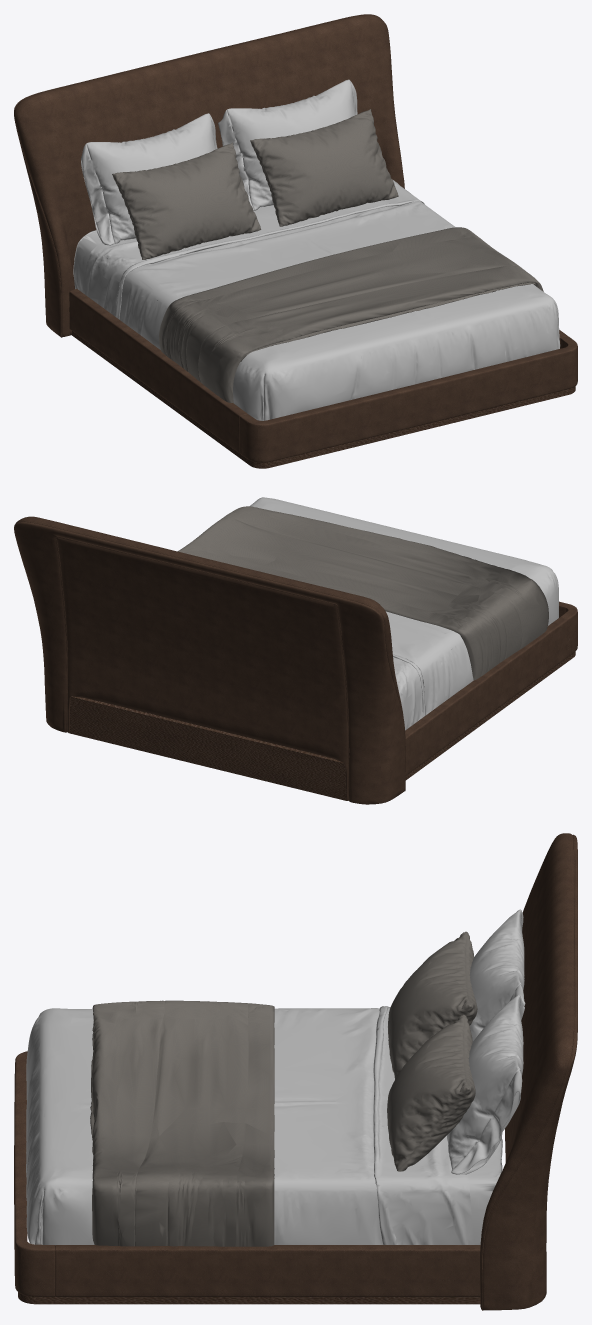
The picture shows the model from 3 angles, top to bottom: view 1: azimuth 30°, elevation 25°; view 2: azimuth 150°, elevation 25°; view 3: azimuth 270°, elevation 25°; orthographic projection. The views are drawn at different scales.
Parts seen in each view (by area): view 1: Object028; view 2: Object028; view 3: Object028.
Part boxes in pixels (x1,y1,x2,y2): Object028: (14,14,577,468); Object028: (14,497,577,804); Object028: (14,833,577,1310).
Bounding box in the file's own units: 0.0217 × 0.0121 × 0.0228.
Materials: 3 (2 with a texture image).
